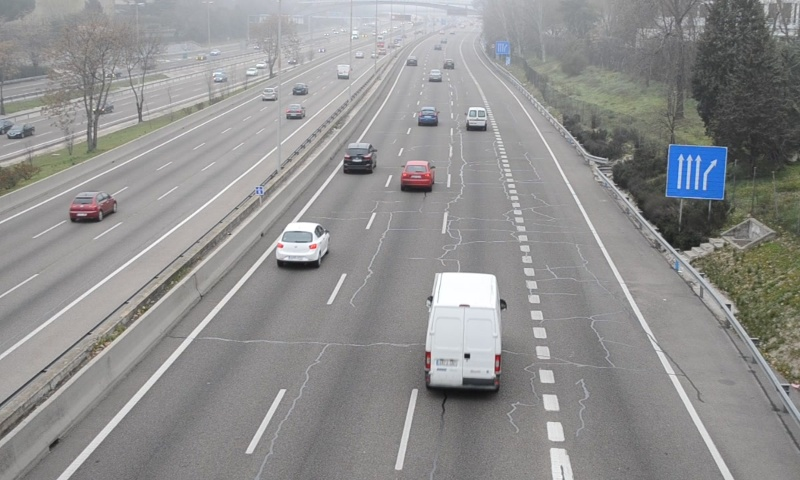car: (276, 222, 329, 264), (342, 142, 376, 174), (400, 160, 432, 190), (417, 106, 438, 126)
van: (424, 272, 501, 393), (466, 106, 488, 131)
